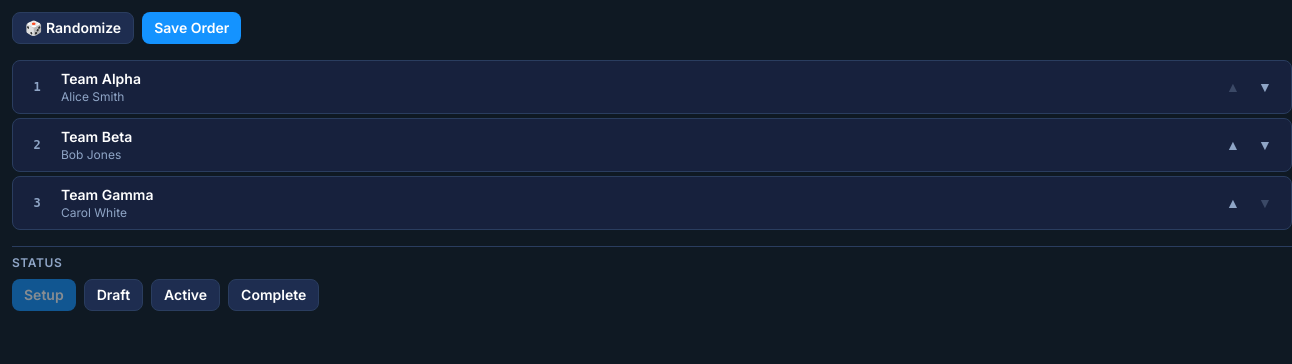
DraftOrderManager › shows error on save failure
Click the button "Save Order". click: (192, 28)
box: top-left (142, 12), bottom-right (242, 44)
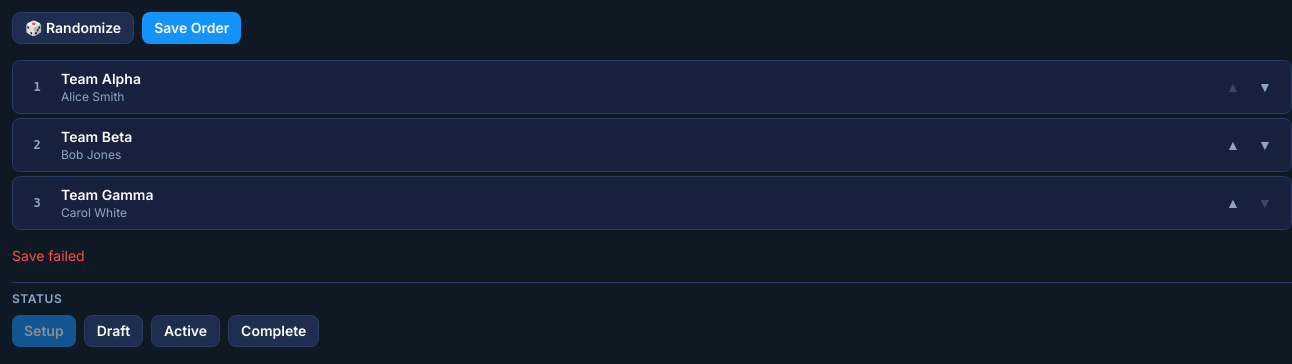
expect the text "Save failed" is shown: met, box top-left (12, 247), bottom-right (85, 264)
